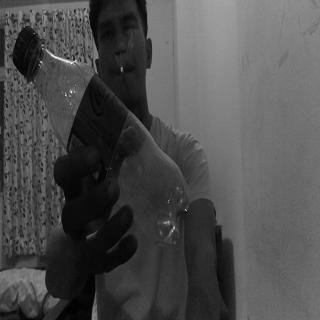plastic_bottles: (10, 26, 190, 247)
